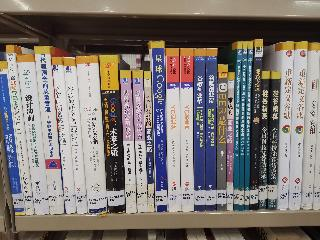book-spine: (14, 53, 52, 217), (77, 53, 114, 216), (4, 43, 36, 216), (34, 44, 66, 216), (59, 56, 89, 215), (50, 56, 78, 215), (100, 55, 127, 216), (0, 60, 26, 217), (287, 41, 309, 212), (149, 40, 169, 213), (302, 42, 320, 210), (248, 38, 265, 212), (278, 42, 295, 211), (117, 71, 137, 214), (166, 48, 182, 214), (179, 50, 195, 213), (130, 70, 148, 213), (203, 48, 217, 211), (267, 70, 282, 212), (233, 41, 244, 212), (239, 41, 250, 212), (142, 71, 155, 212), (258, 71, 271, 211), (194, 49, 205, 212), (217, 65, 228, 212), (246, 42, 253, 212), (228, 71, 235, 211)
